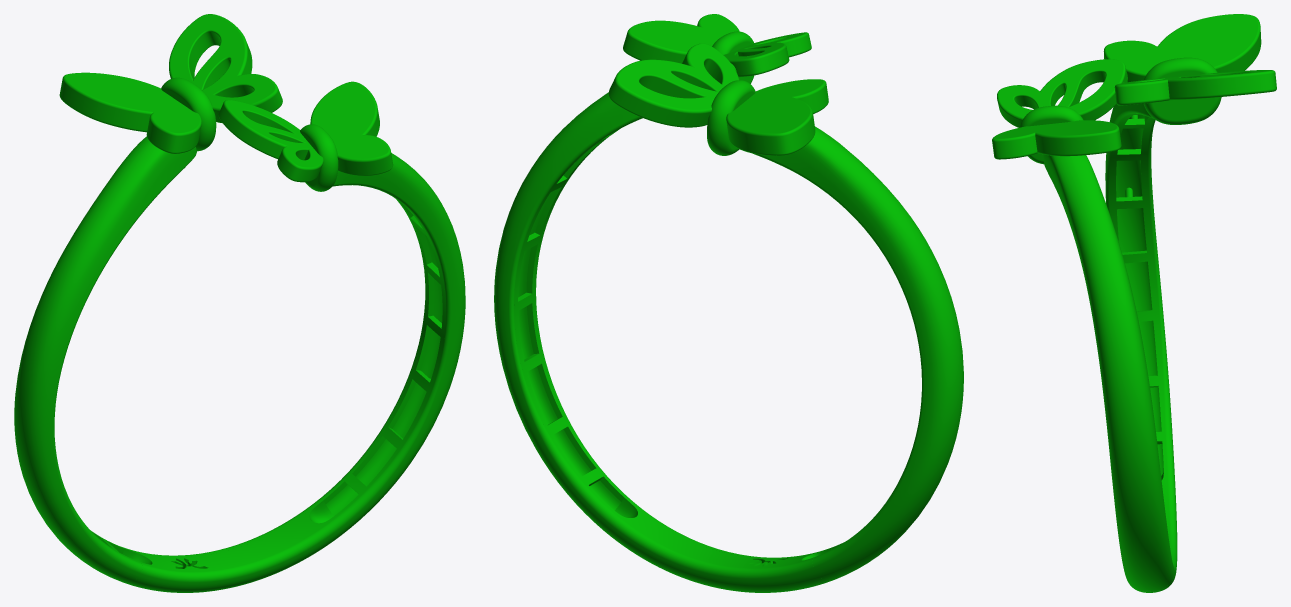
3 views of the same model, side by side, from view 1: azimuth 30°, elevation 25°; view 2: azimuth 150°, elevation 25°; view 3: azimuth 270°, elevation 25° (orthographic). The views are drawn at different scales.
Parts seen in each view (by area): view 1: 1.3dm; view 2: 1.3dm; view 3: 1.3dm.
Boxes of the visible parts, x1=… form: 1.3dm: x1=14, y1=14, x2=465, y2=592; 1.3dm: x1=494, y1=14, x2=963, y2=592; 1.3dm: x1=992, y1=14, x2=1276, y2=592.
Size of the model in its own units: 2.5 by 2.8 by 1.4.
